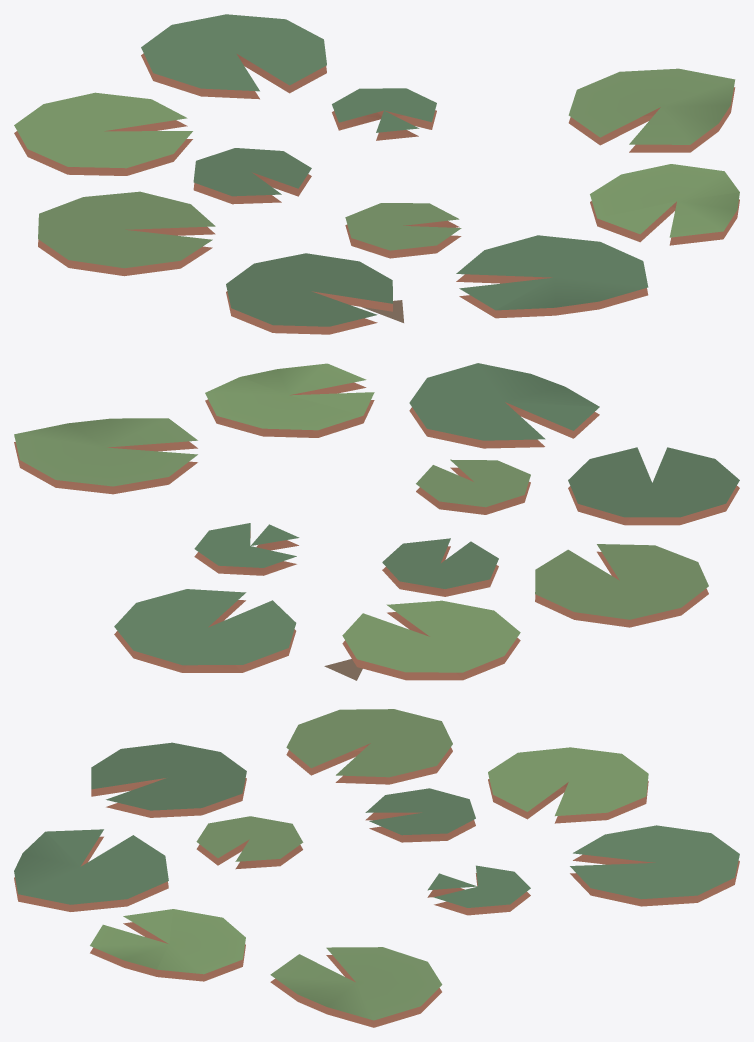
File: lilies.lod.glb
3 renders of one model, top to bottom at view 1: azimuth 30°, elevation 25°; view 2: azimuth 150°, elevation 25°; view 3: azimuth 270°, elevation 25°, orthographic. The views are drawn at different scales.
Visible parts, largest first — view 1: lilies; view 2: lilies; view 3: lilies.
Boxes of the visible parts, bbox=[...] form: lilies: bbox=[14, 14, 739, 334]; lilies: bbox=[14, 363, 739, 680]; lilies: bbox=[14, 709, 739, 1027].
Bounding box in the file's own units: 3 × 0.621 × 2.96.
